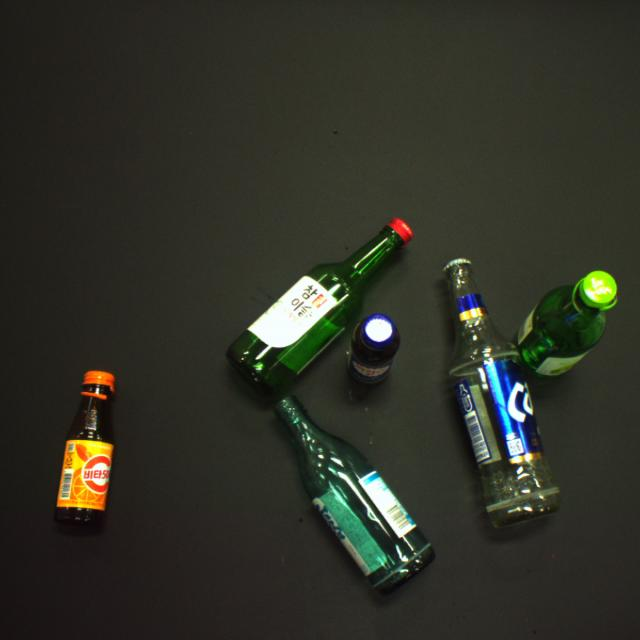beer-bottle: (444, 257, 559, 525)
soju-bottle: (225, 217, 412, 393), (276, 397, 434, 591)
